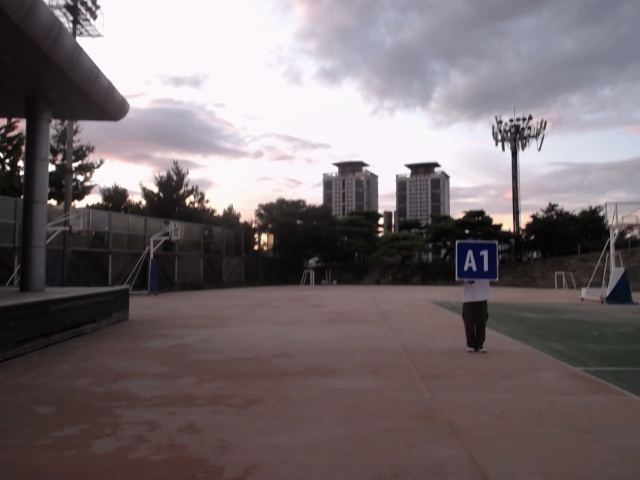delivery_a1: (457, 241, 498, 281)
